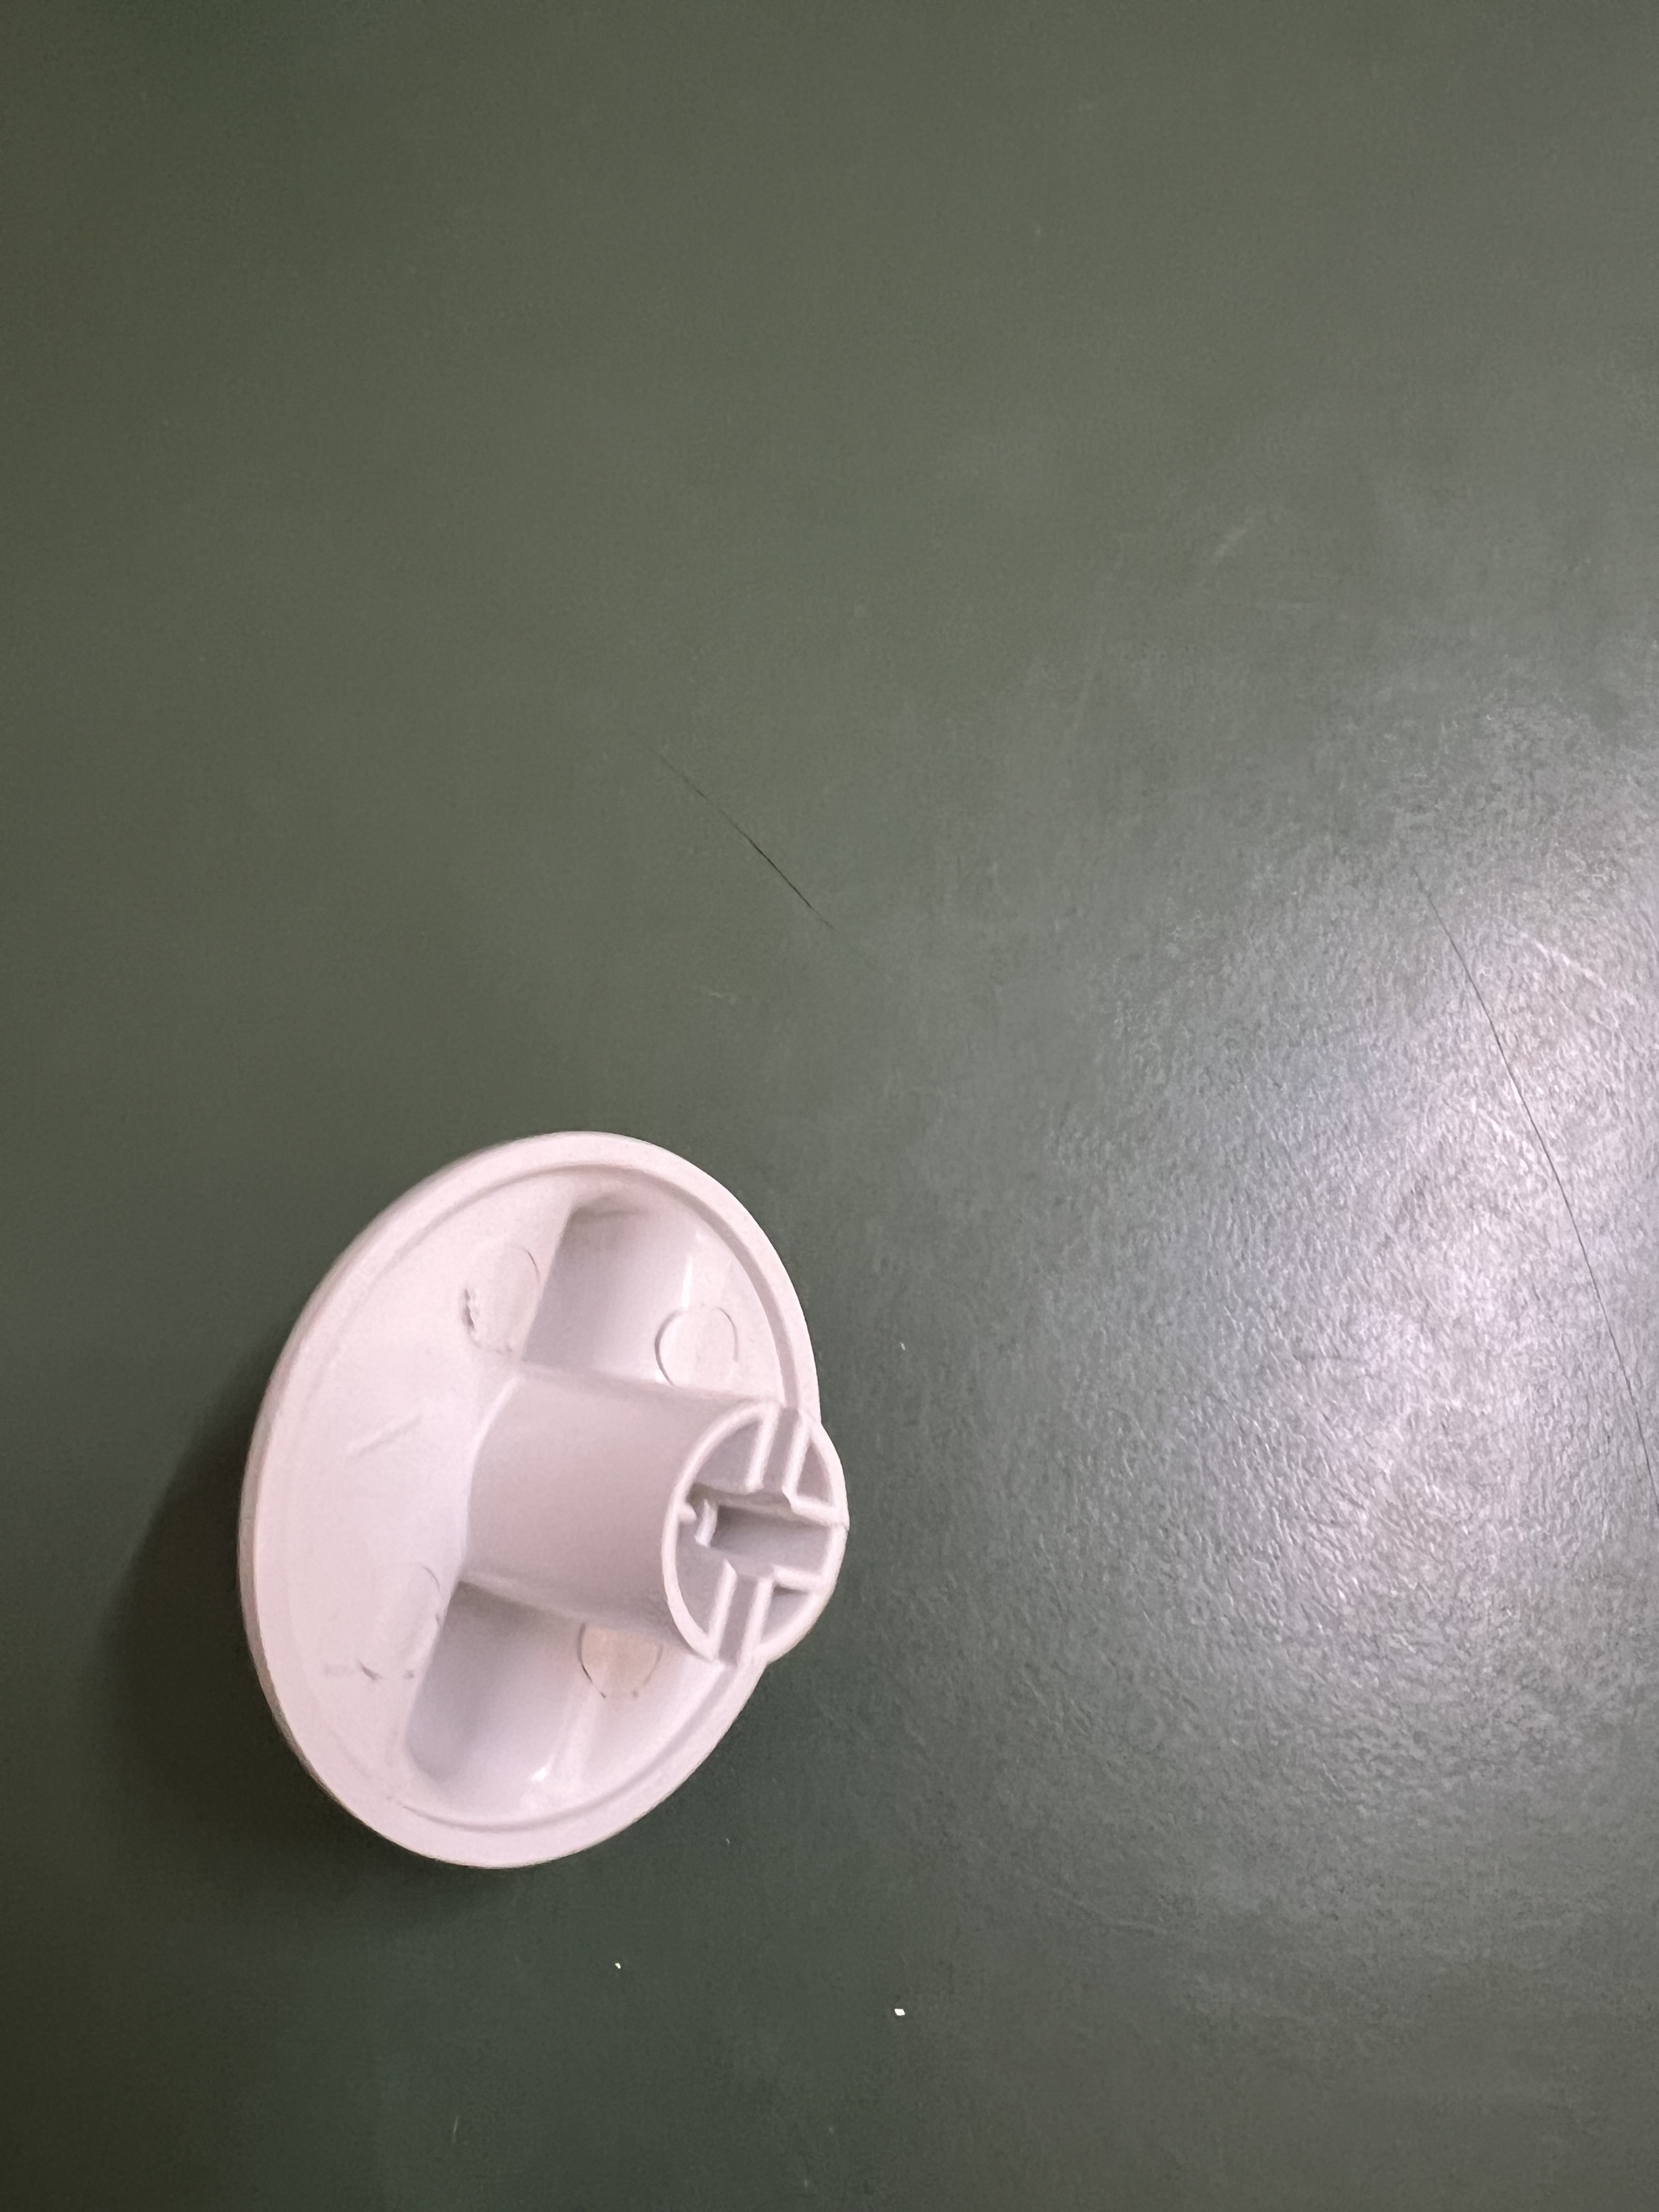regulator: (227, 1092, 864, 1850)
